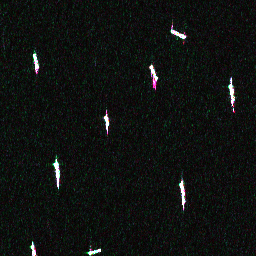ship: (167, 26, 188, 41), (146, 63, 160, 83), (177, 179, 186, 206), (226, 82, 236, 105), (30, 50, 40, 71), (51, 158, 61, 179), (101, 113, 112, 128), (85, 247, 103, 255), (27, 242, 38, 255)
